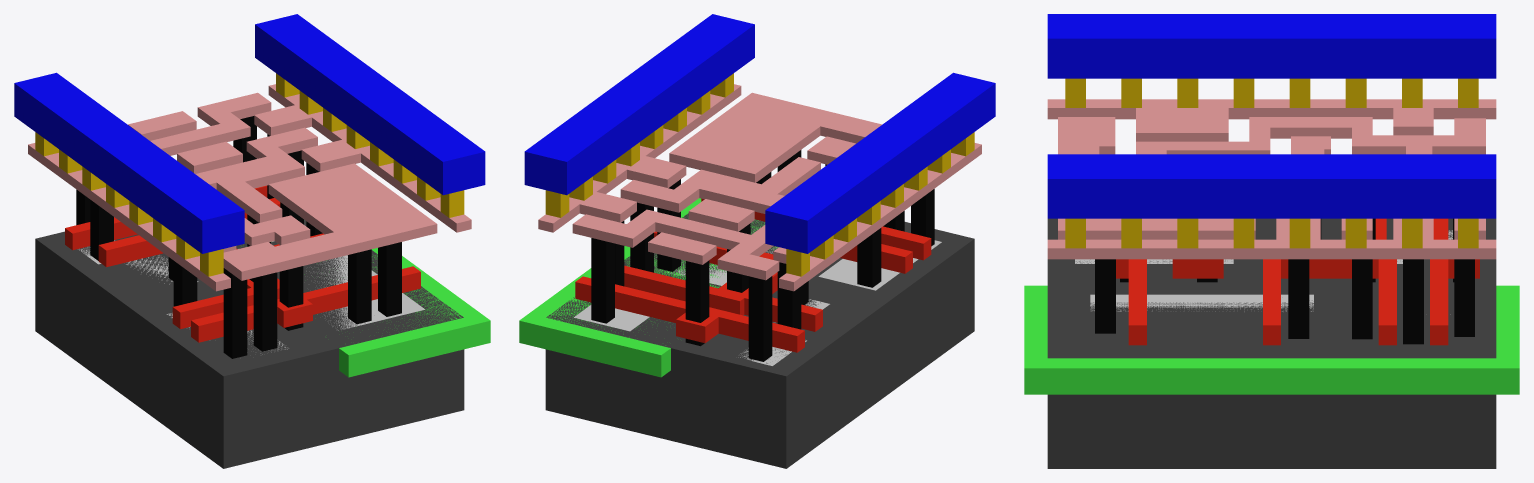
Rendered from sky130_fd_sc_hd__ebufn_1.obj.
The picture shows the model from 3 angles, left to right: view 1: azimuth 30°, elevation 25°; view 2: azimuth 150°, elevation 25°; view 3: azimuth 270°, elevation 25°; orthographic projection. The views are drawn at different scales.
Parts seen in each view (by area): view 1: subs, li, metal1, licon, poly, nwell, mcon, tap, diff; view 2: subs, li, metal1, licon, poly, nwell, mcon, diff, tap; view 3: subs, metal1, li, nwell, mcon, poly, licon, tap.
Part boxes in pixels (x1=…): subs: x1=35, y1=219, x2=464, y2=468; li: x1=28, y1=84, x2=471, y2=291; metal1: x1=14, y1=14, x2=485, y2=253; licon: x1=76, y1=116, x2=401, y2=358; poly: x1=65, y1=185, x2=420, y2=342; nwell: x1=238, y1=246, x2=490, y2=377; mcon: x1=35, y1=73, x2=464, y2=276; tap: x1=272, y1=241, x2=424, y2=330; diff: x1=78, y1=240, x2=288, y2=354; subs: x1=545, y1=213, x2=974, y2=468; li: x1=538, y1=84, x2=981, y2=291; metal1: x1=524, y1=14, x2=995, y2=253; licon: x1=591, y1=150, x2=934, y2=361; poly: x1=575, y1=198, x2=931, y2=352; nwell: x1=519, y1=198, x2=778, y2=377; mcon: x1=545, y1=73, x2=974, y2=276; diff: x1=738, y1=240, x2=941, y2=365; tap: x1=574, y1=226, x2=777, y2=331; subs: x1=1047, y1=218, x2=1496, y2=468; metal1: x1=1047, y1=14, x2=1496, y2=218; li: x1=1047, y1=99, x2=1496, y2=259; nwell: x1=1024, y1=285, x2=1519, y2=394; mcon: x1=1065, y1=78, x2=1478, y2=248; poly: x1=1116, y1=218, x2=1479, y2=345; licon: x1=1095, y1=218, x2=1474, y2=344; tap: x1=1090, y1=294, x2=1450, y2=314.
Size of the model in its own units: 3.2 by 2.74 by 4.06.
